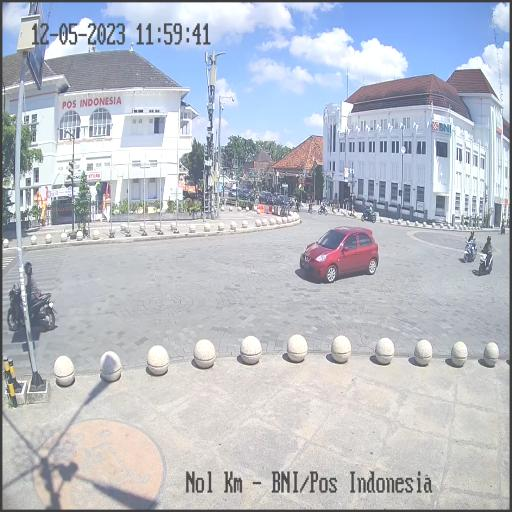mobil: (297, 219, 381, 289)
motor: (4, 272, 58, 335), (478, 242, 494, 276), (465, 237, 476, 263)
